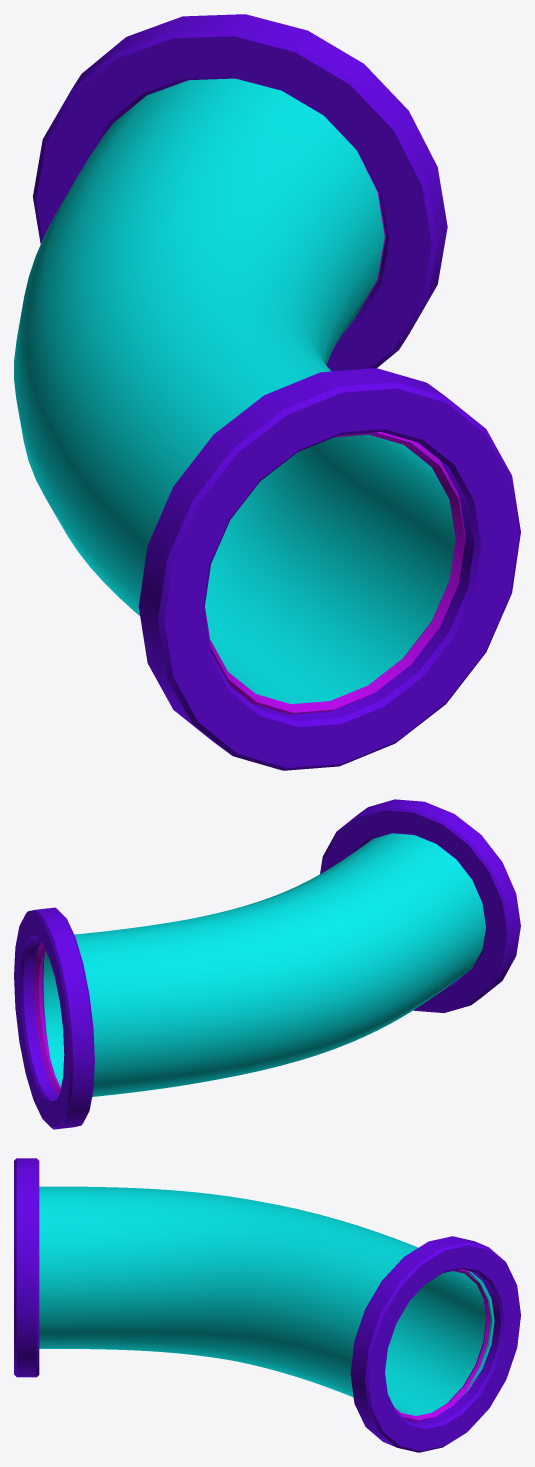
Rendered from Small 45.fbx.
3 renders of one model, top to bottom at view 1: azimuth 30°, elevation 25°; view 2: azimuth 150°, elevation 25°; view 3: azimuth 270°, elevation 25°, orthographic. The views are drawn at different scales.
Parts seen in each view (by area): view 1: SmartCombine_7; view 2: SmartCombine_7; view 3: SmartCombine_7.
Boxes of the visible parts, bbox=[...] form: SmartCombine_7: bbox=[14, 14, 520, 770]; SmartCombine_7: bbox=[14, 799, 520, 1129]; SmartCombine_7: bbox=[14, 1158, 520, 1452].
Size of the model in its own units: 42.75 by 25 by 57.44.
